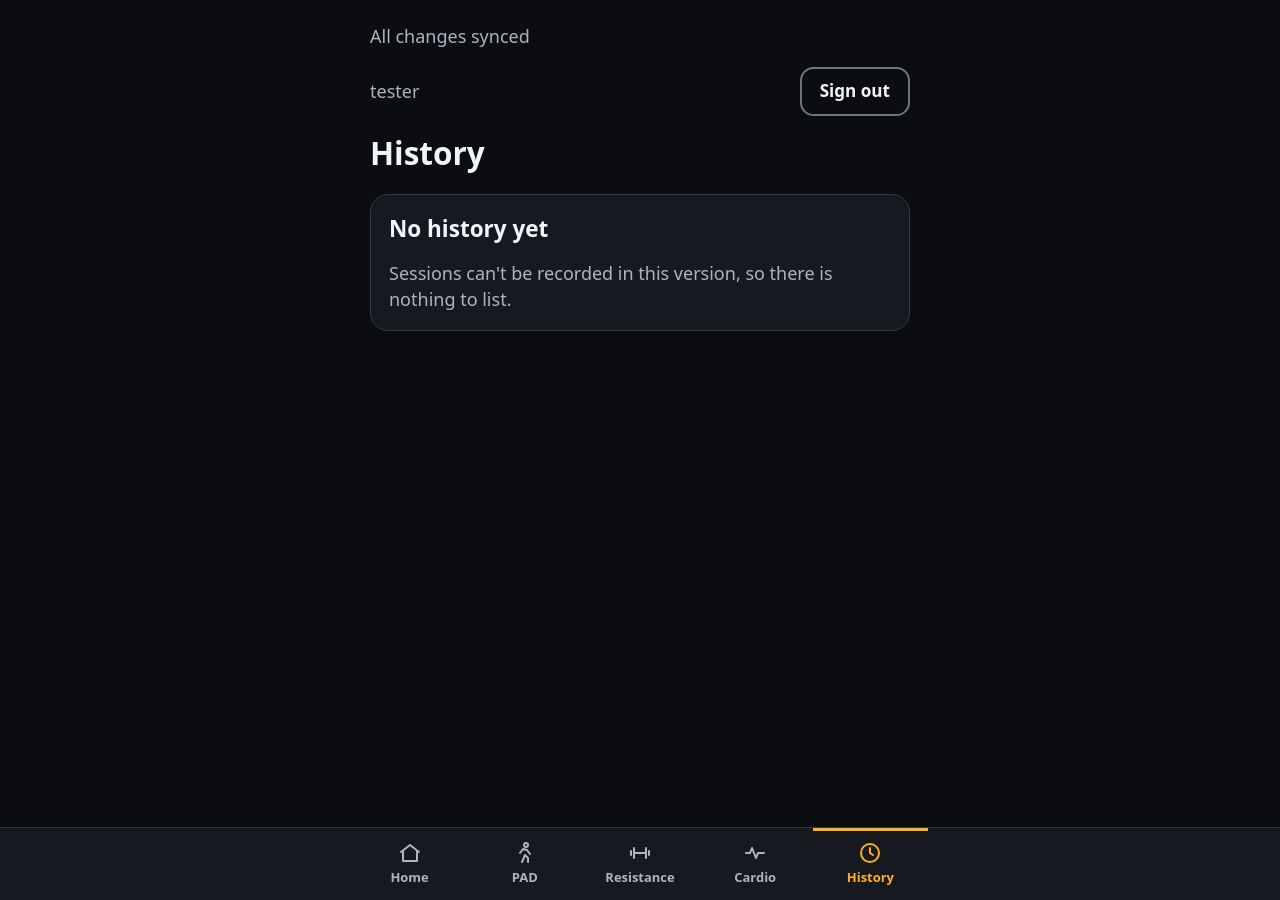
Test: navigation smoke test › returns Home from a domain screen
This screenshot has width=1280, height=900.
Step 1. Click the link "Home" → (410, 864), box top-left (390, 841), bottom-right (429, 886)
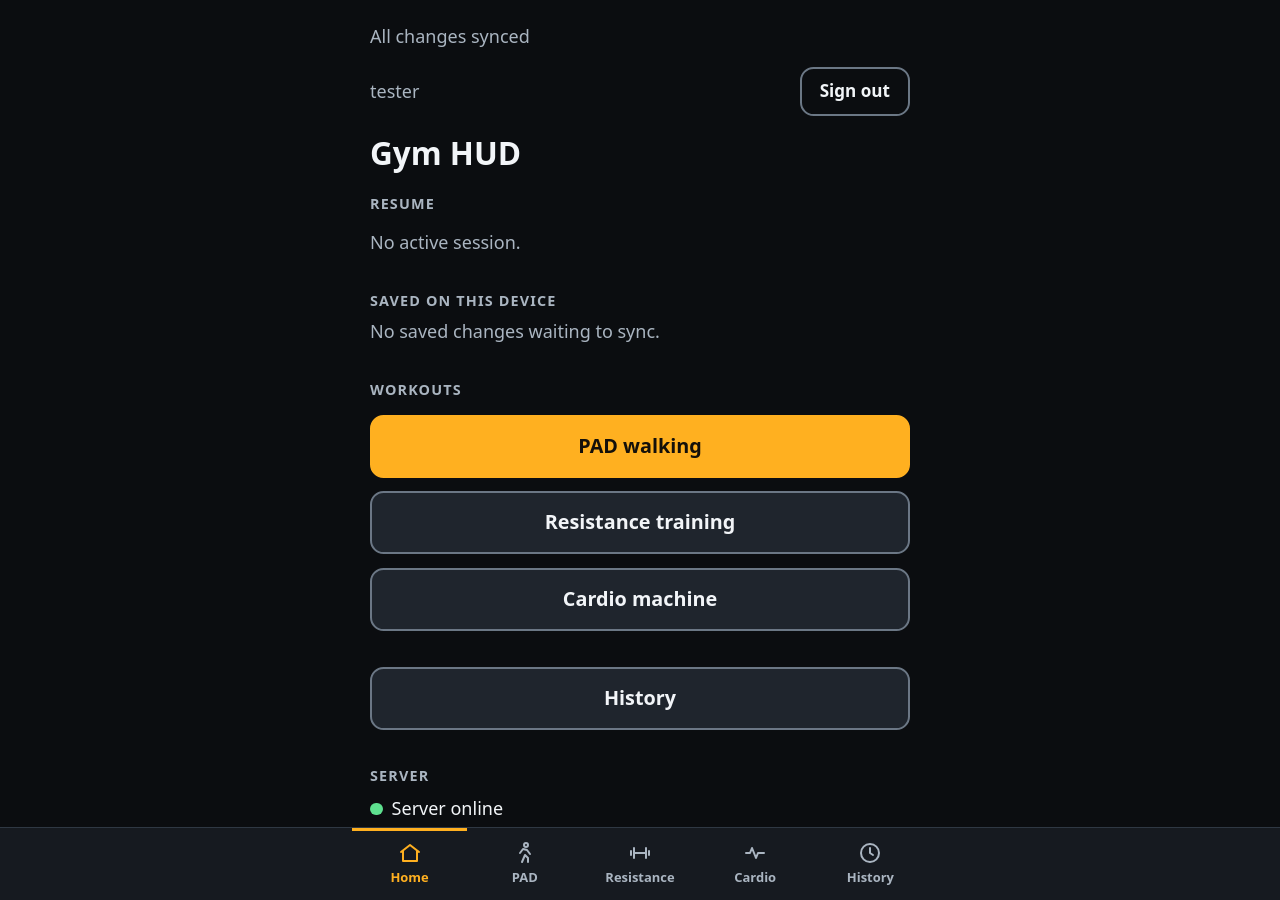
Check: the heading "Gym HUD" is shown, box top-left (370, 131), bottom-right (521, 174)
